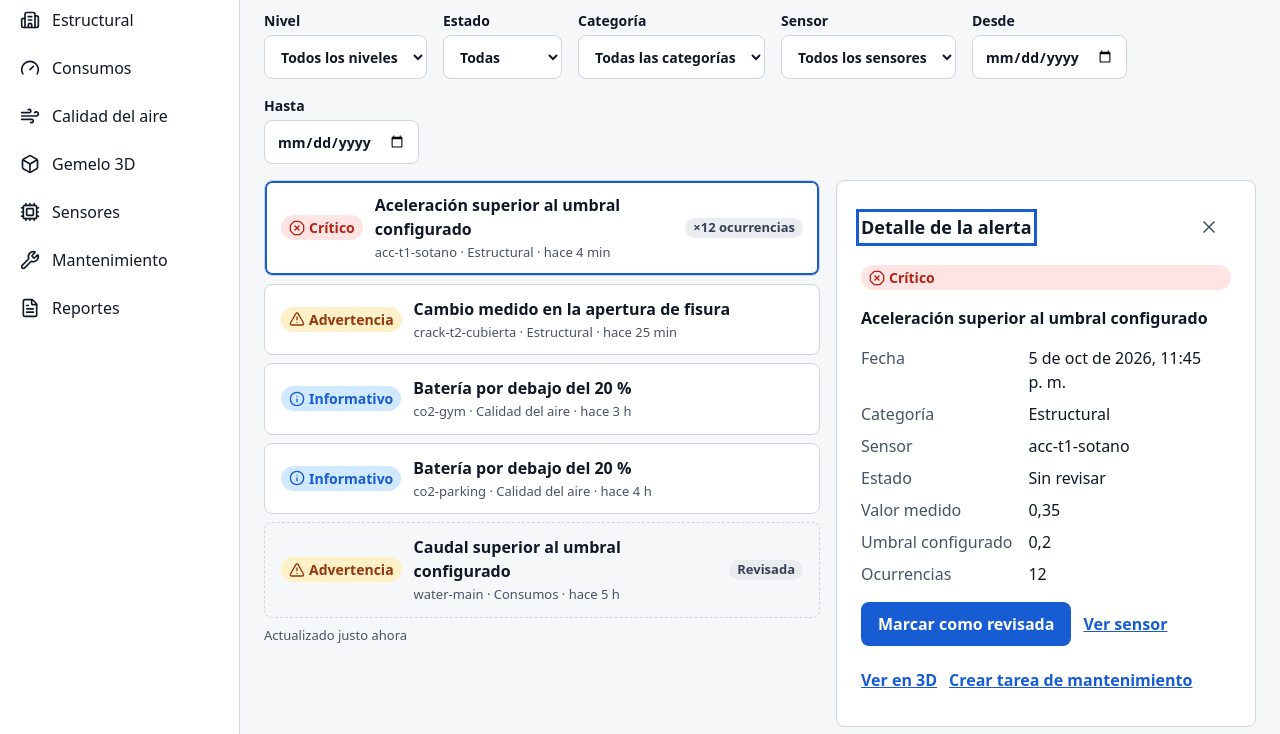
fallo del acuse que sobrevive al cierre del panel › si se cierra el panel antes de que falle, el error se avisa en las notificaciones y se revierte
(page scrolled)
expect the text "Aceleración superior al umbral configurado" below "Detalle de la alerta" is shown: met, box [861,307,1208,329]
Click the button "Marcar como revisada" at [966, 624], box [861,602,1071,646]
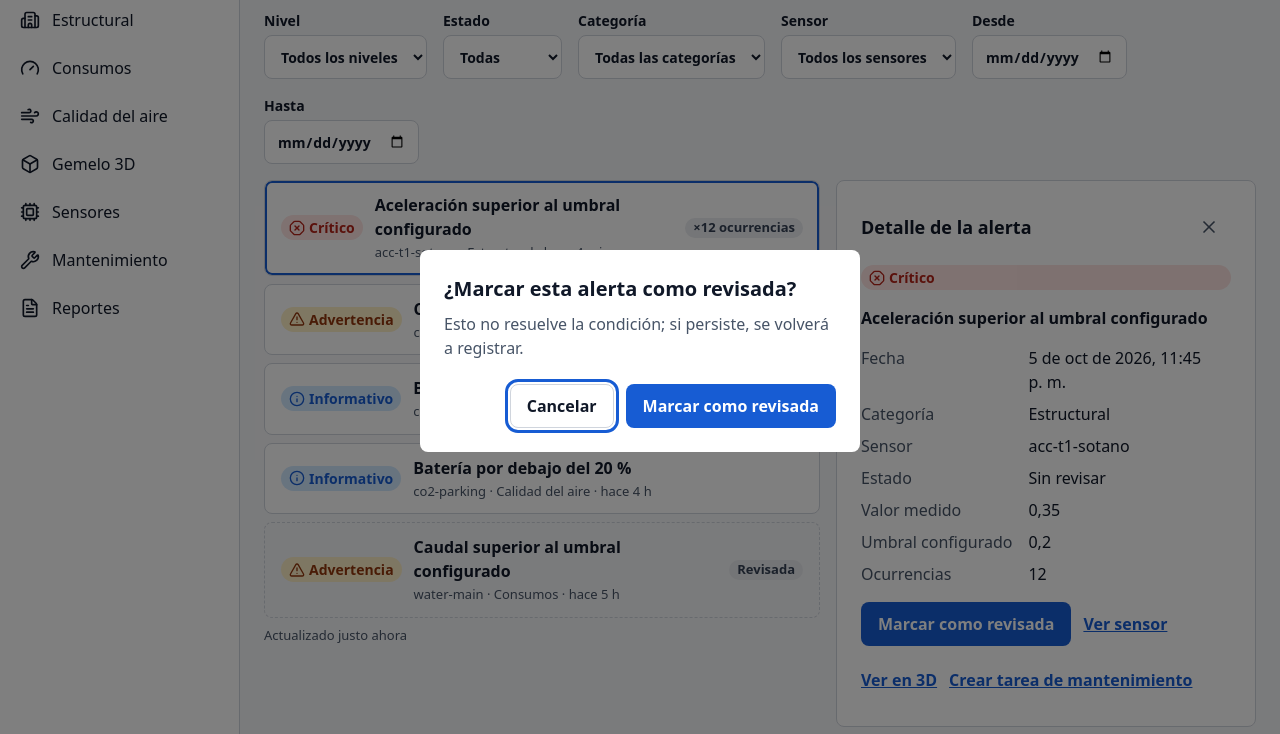
Click the button "Marcar como revisada" at [731, 406], box [626,384,836,428]
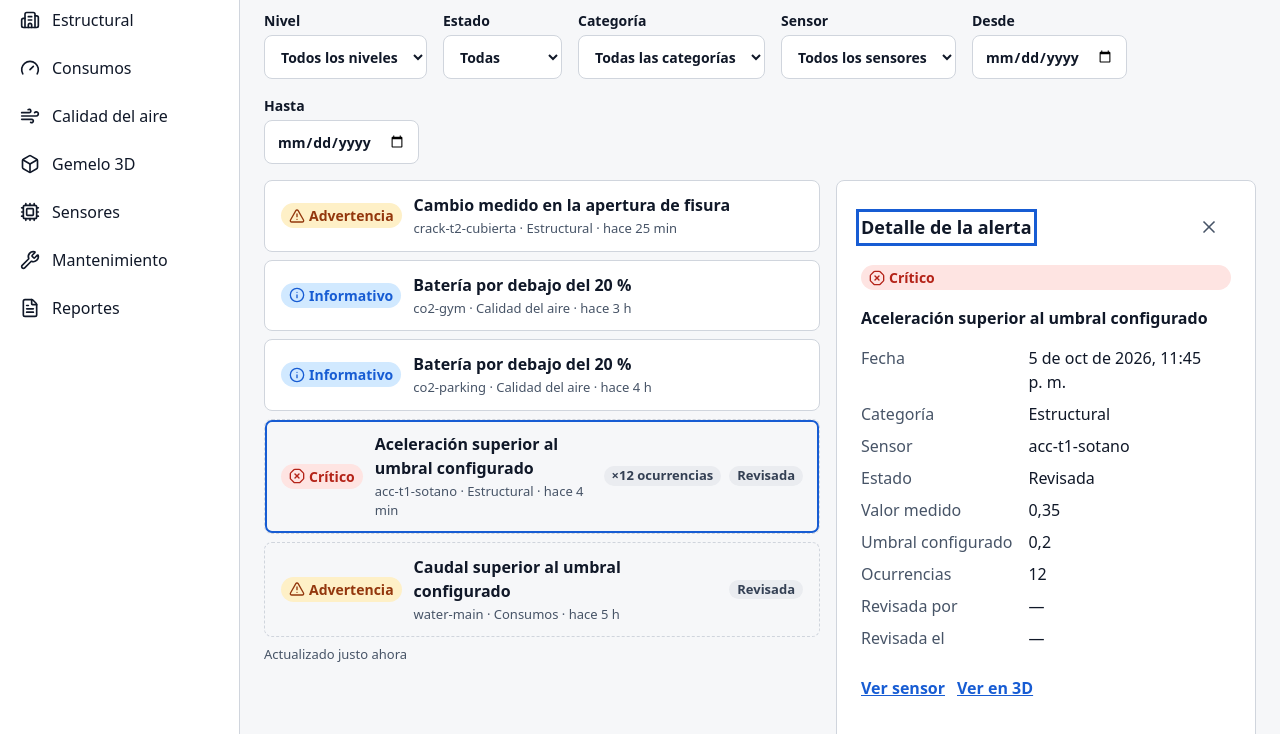
expect the text "Revisada" below "Fecha" is shown: met, box [1028,467,1095,489]
Press Escape
(page scrolled)
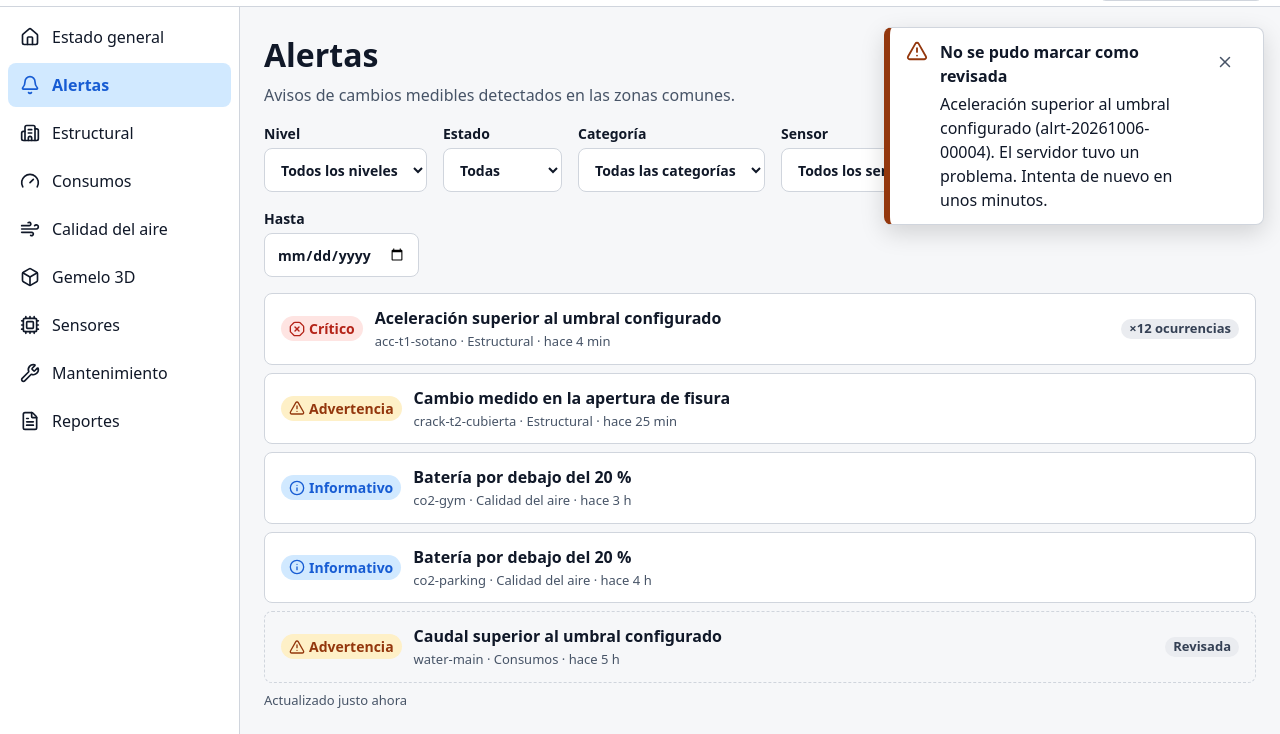
expect the heading "Detalle de la alerta" is gone: met
